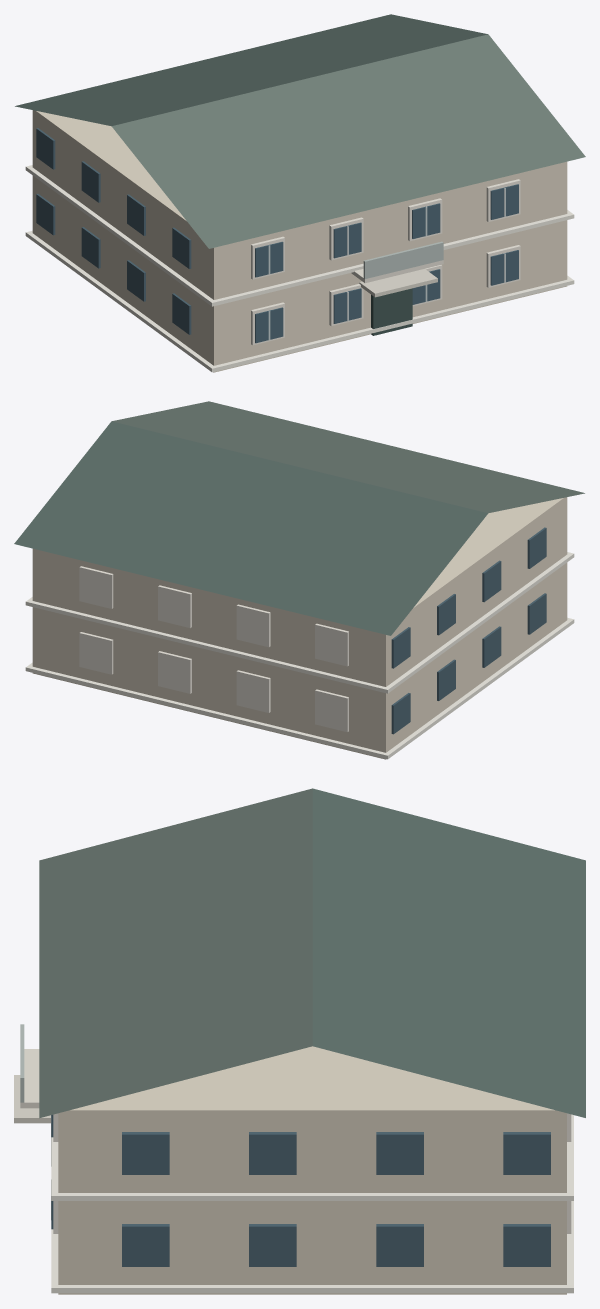
The picture shows the model from 3 angles, top to bottom: view 1: azimuth 30°, elevation 25°; view 2: azimuth 150°, elevation 25°; view 3: azimuth 270°, elevation 25°; orthographic projection. The views are drawn at different scales.
Size of the model in its own units: 19.2 by 8.9 by 18.
